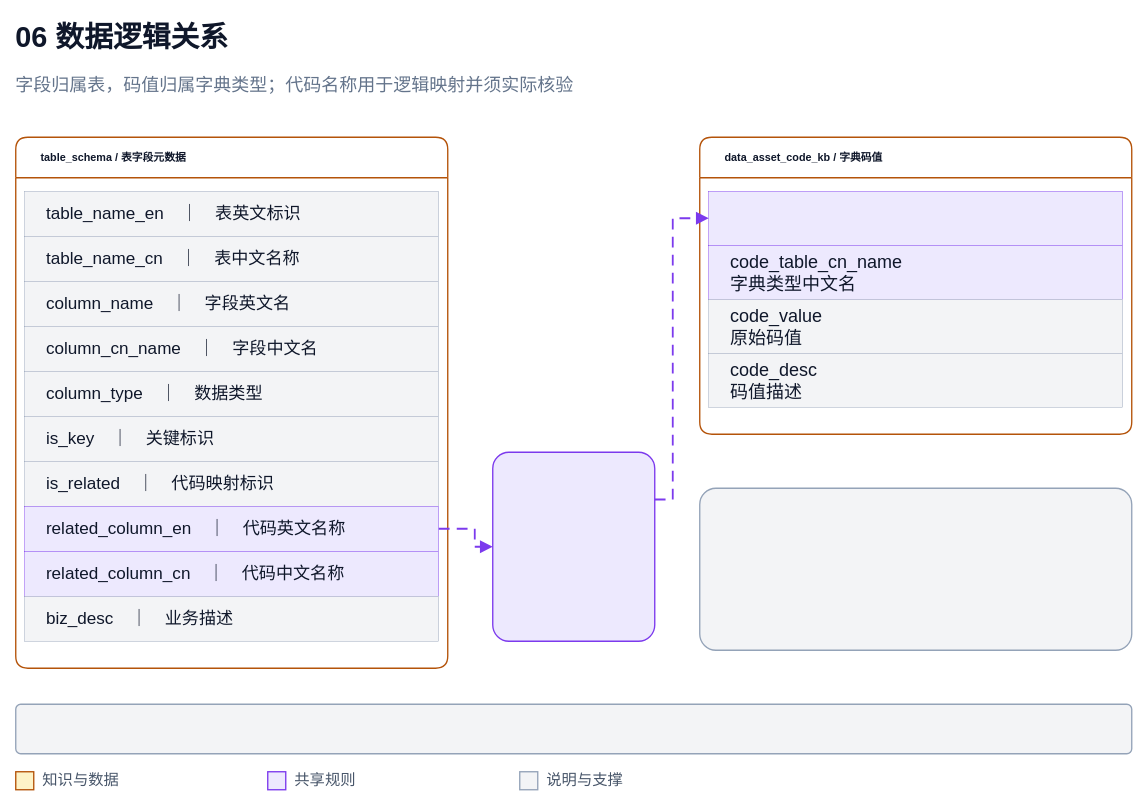
This 1148x809 diagram has some shape labels left out. Each missing label, with the centre of its shape:
"code_table_en_name 字典类型英文名" belongs at (915,218).
"模型说明：本图为逻辑字段契约；不推断物理 PK / FK、字段类型长度、唯一约束或跨系统外键。" belongs at (573,728).
"类型与码值边界 代码按字符串原样保留 前导零、空串与 NULL 不混同 重复及同码异义不静默删除" belongs at (915,569).
"逻辑映射 英文名称核验 中文名称核对 冲突需确认" belongs at (573,546).
